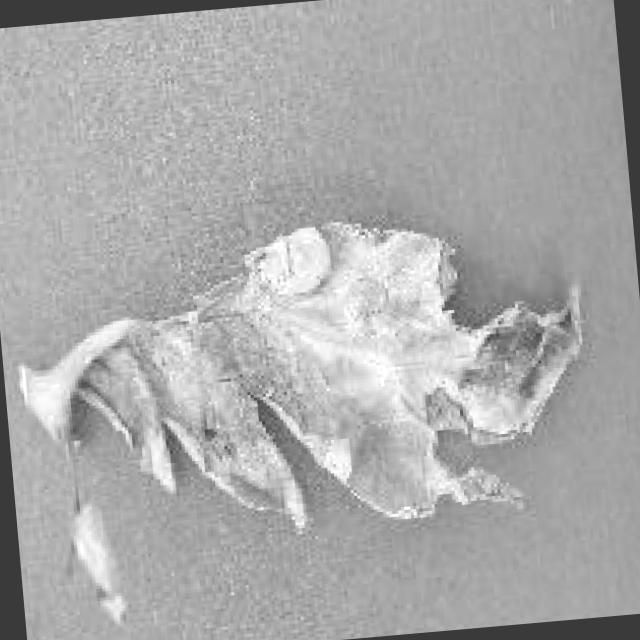leaf blight: (24, 215, 582, 626)
